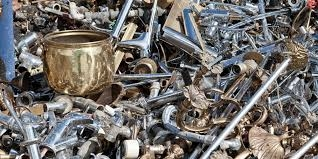metal: (189, 38, 312, 159), (33, 25, 129, 102), (155, 101, 247, 154), (155, 21, 226, 73), (34, 108, 99, 159), (110, 66, 234, 84), (137, 84, 201, 109), (281, 122, 318, 158), (117, 27, 155, 62), (7, 29, 44, 58), (16, 124, 46, 159), (108, 1, 134, 37), (42, 93, 74, 118), (228, 53, 260, 77), (103, 122, 134, 145), (119, 136, 143, 159)
